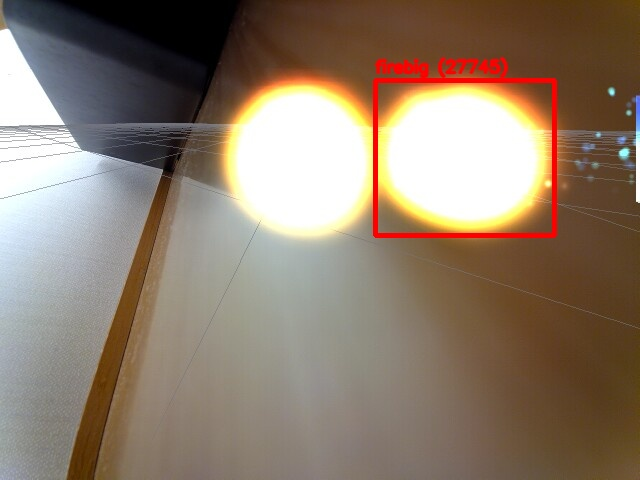firebig: (375, 80, 554, 235)
